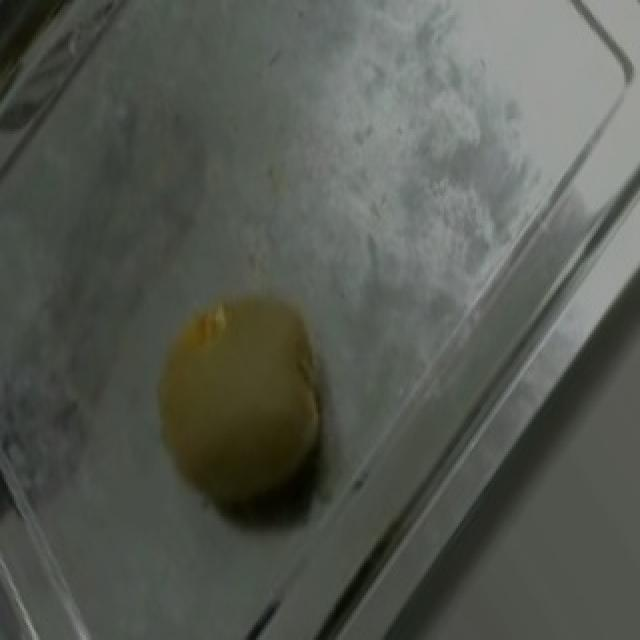Fruit: (110, 253, 374, 561)
